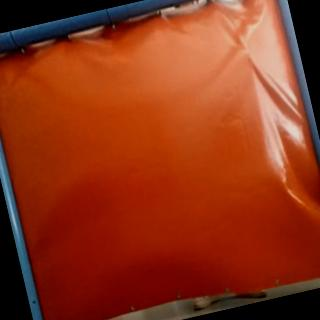Hit-hRxx: (240, 44, 253, 59)
